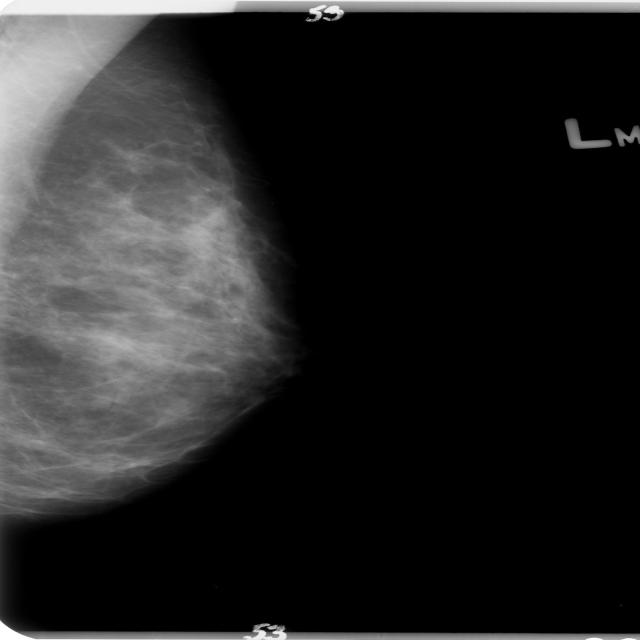normal: (0, 0, 297, 532)
